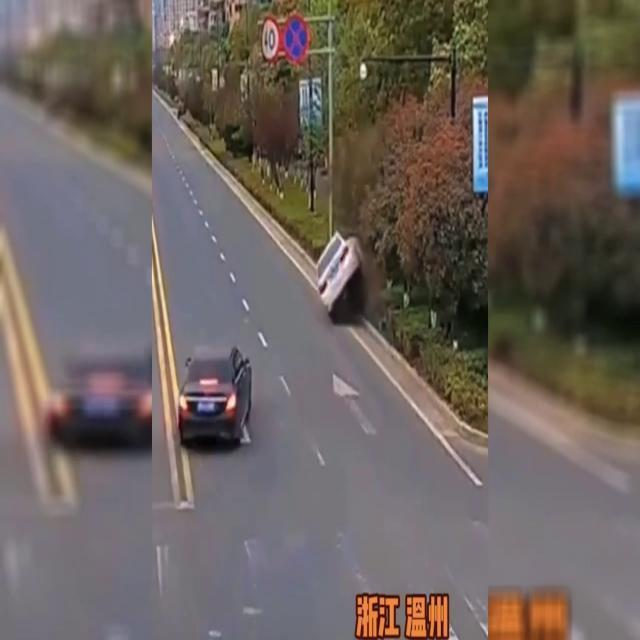accident: (308, 192, 410, 332)
